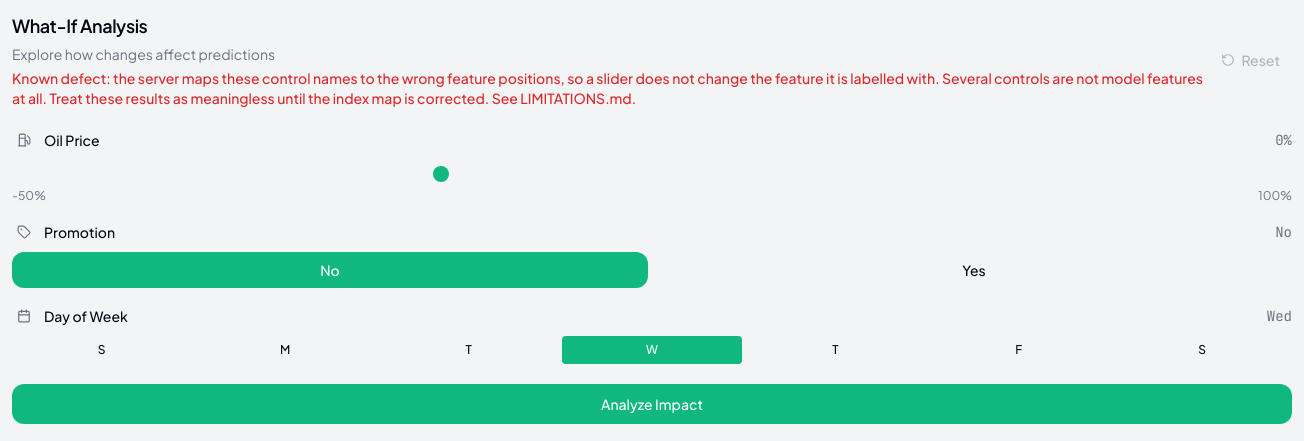
Test case: WhatIfAnalysis › enables Reset button after making changes
# Click "Yes" on promotion toggle
Click the button "Yes". click: (974, 270)
box: [656, 252, 1292, 288]
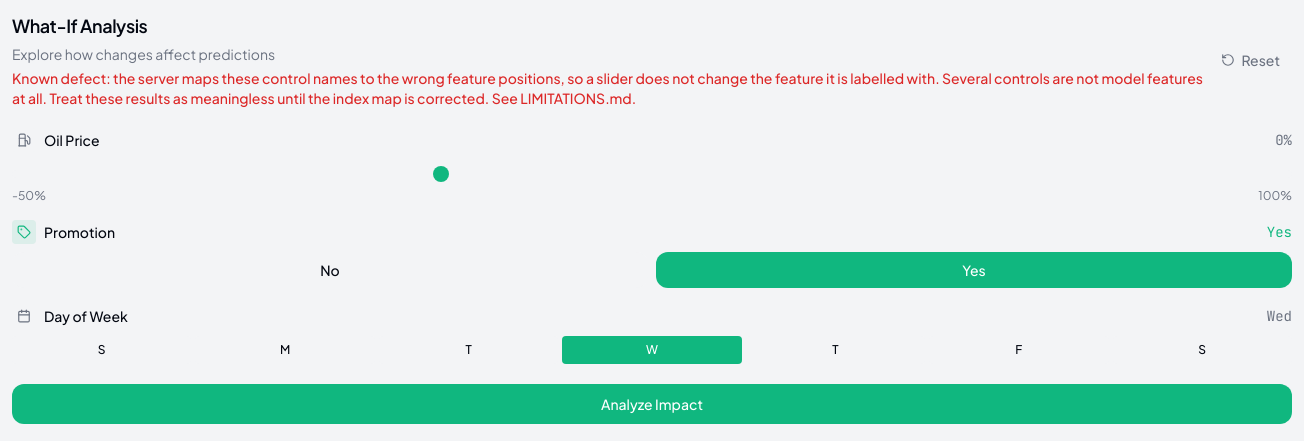
Result: the button "Reset" is enabled at [1210, 44, 1292, 76]
